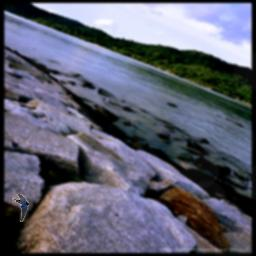Swallow: (12, 194, 29, 222)
